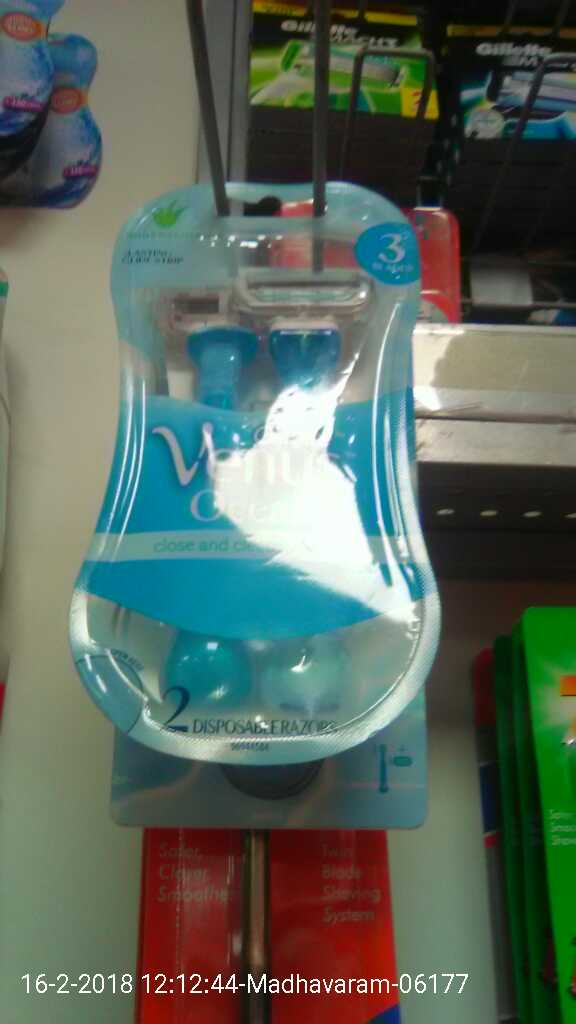venus: (89, 166, 437, 742)
